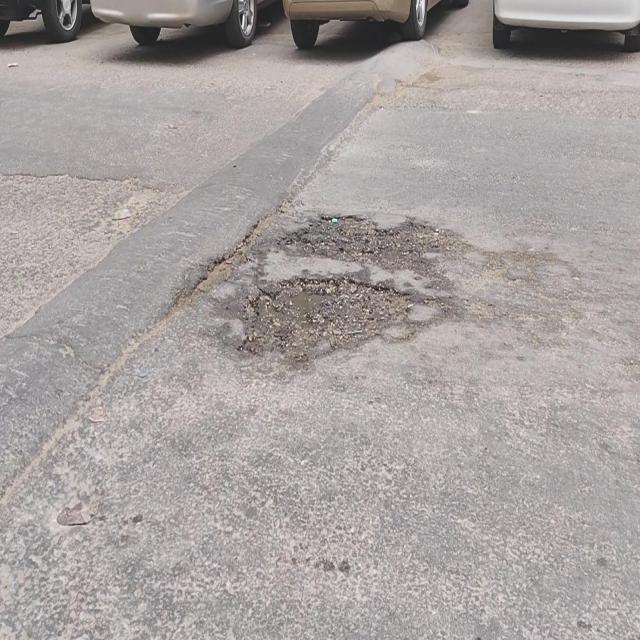Potholes: (243, 272, 417, 364), (295, 210, 455, 274)
